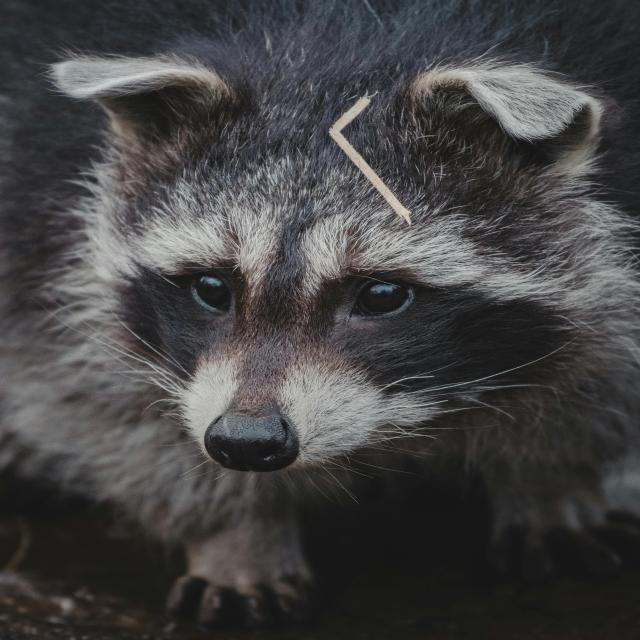Raccoon: (45, 37, 624, 591)
